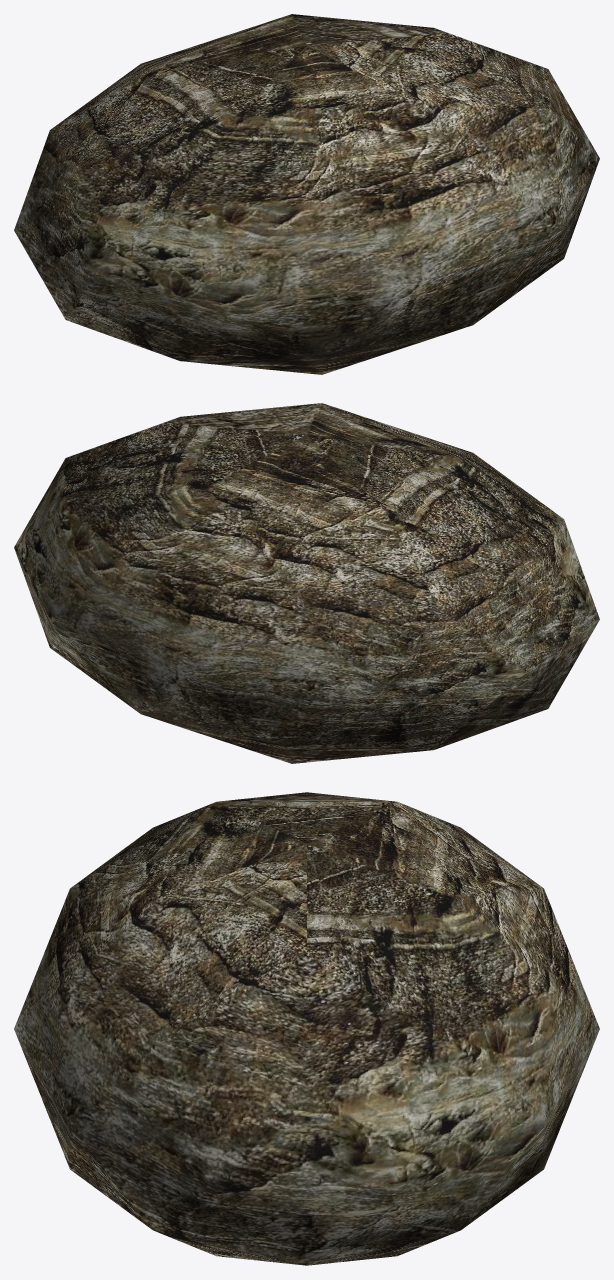
File: KM_VOB_DEAD_BIGROCK_01_1.glb
3 renders of one model, top to bottom at view 1: azimuth 30°, elevation 25°; view 2: azimuth 150°, elevation 25°; view 3: azimuth 270°, elevation 25°, orthographic. The views are drawn at different scales.
Parts seen in each view (by area): view 1: Mesh; view 2: Mesh; view 3: Mesh.
Part boxes in pixels (x1,y1,x2,y2): Mesh: (14,14,599,374); Mesh: (14,403,599,763); Mesh: (14,792,599,1265).
Bounding box in the file's own units: 2 × 1.11 × 1.59.
1 material, 1 textured.
